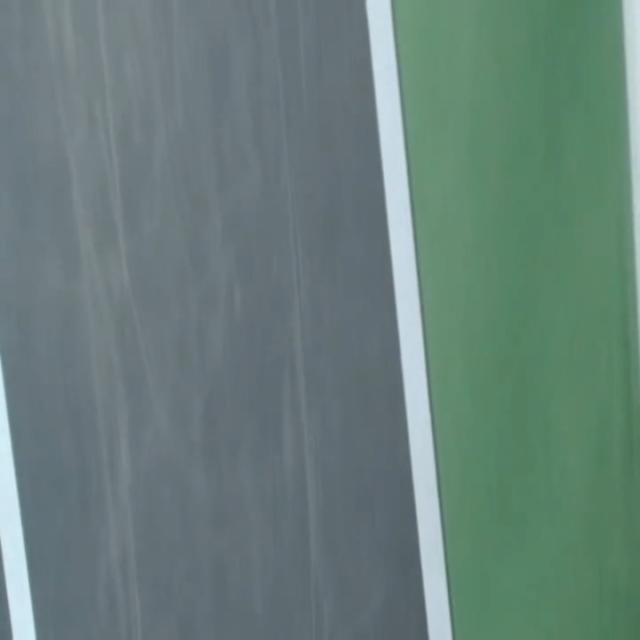right: (365, 0, 452, 639)
